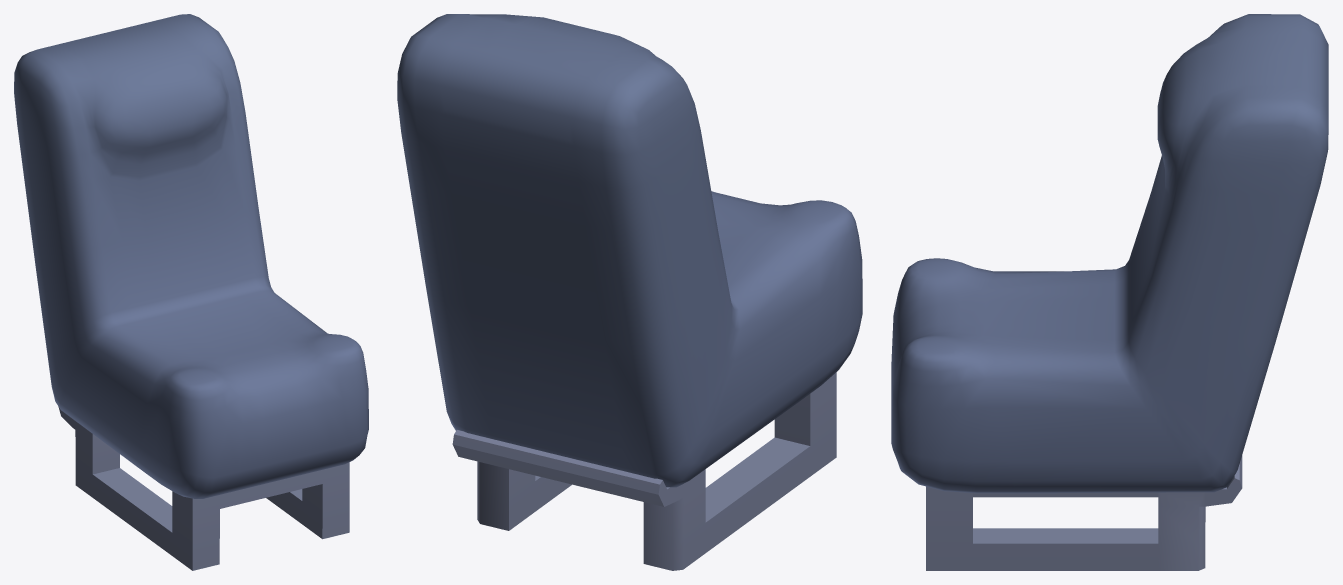
Rendered from Airplane_Seat.FBX.
The picture shows the model from 3 angles, left to right: view 1: azimuth 30°, elevation 25°; view 2: azimuth 150°, elevation 25°; view 3: azimuth 270°, elevation 25°; orthographic projection. The views are drawn at different scales.
Parts seen in each view (by area): view 1: Airplane_Seat; view 2: Airplane_Seat; view 3: Airplane_Seat.
Boxes of the visible parts, x1,y1,x2,y2 form: Airplane_Seat: [14, 14, 368, 570]; Airplane_Seat: [397, 14, 862, 570]; Airplane_Seat: [891, 14, 1328, 570].
Bounding box in the file's own units: 31.24 × 63.05 × 53.06.
Materials: 1 (1 with a texture image).
